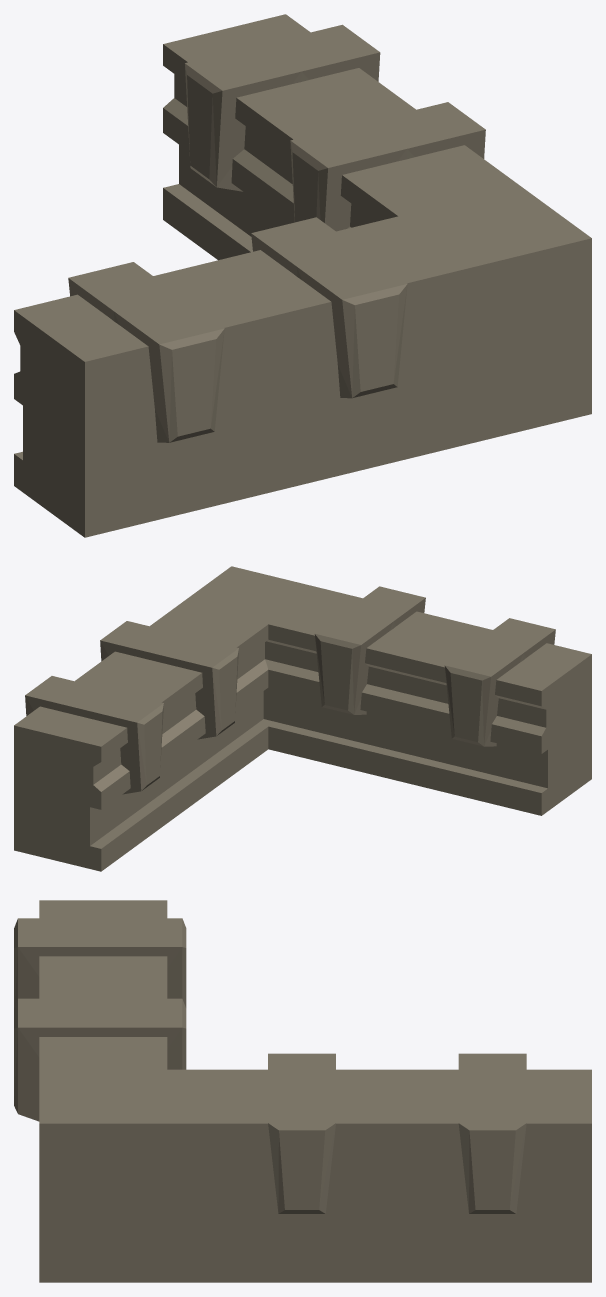
File: TempleFrameC_C.fbx
3 renders of one model, top to bottom at view 1: azimuth 30°, elevation 25°; view 2: azimuth 150°, elevation 25°; view 3: azimuth 270°, elevation 25°, orthographic. The views are drawn at different scales.
Visible parts, largest first — view 1: TempleFrameC_C01, TempleFrameC_C02; view 2: TempleFrameC_C01, TempleFrameC_C02; view 3: TempleFrameC_C01, TempleFrameC_C02.
Part boxes in pixels (x1,y1,x2,y2): TempleFrameC_C01: [14, 14, 591, 537]; TempleFrameC_C02: [68, 24, 485, 442]; TempleFrameC_C01: [14, 566, 591, 871]; TempleFrameC_C02: [25, 586, 555, 794]; TempleFrameC_C01: [39, 900, 591, 1282]; TempleFrameC_C02: [14, 918, 526, 1213].
Bounding box in the file's own units: 336 × 113 × 350.
